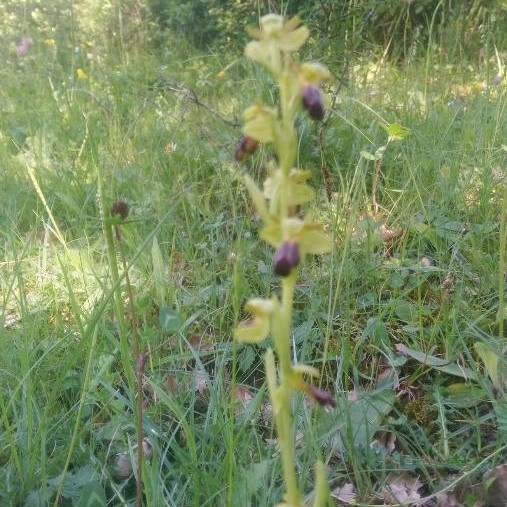obstacle: (142, 29, 397, 469)
